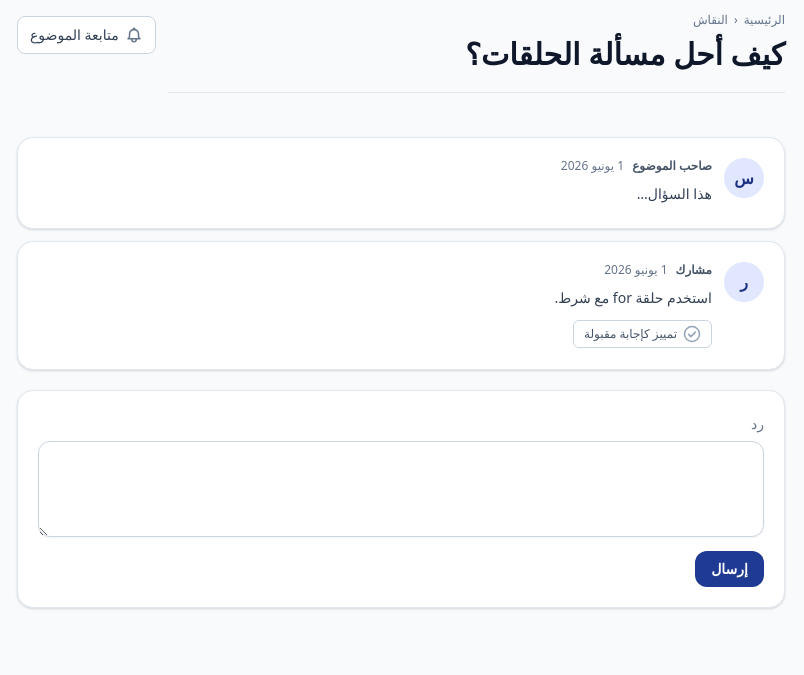
ThreadPage — زرّ تمييز الإجابة › يعرض رسالة خطأ (role=alert) عند فشل التمييز
Click the button "تمييز كإجابة مقبولة".
click(642, 334)  # box [573,320,712,348]
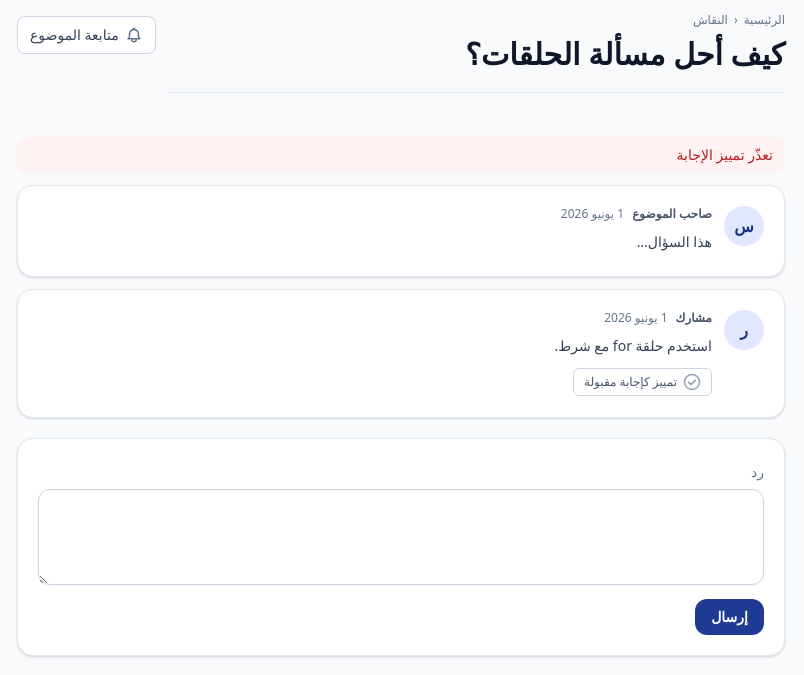
expect the message "تعذّر تمييز الإجابة" is shown: met, box [17,137,785,173]
